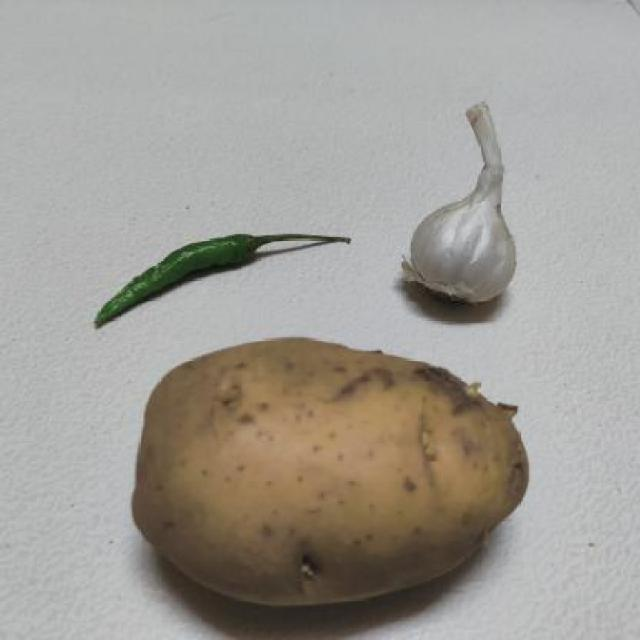Garlic: (398, 97, 530, 323)
Green Chili: (70, 214, 358, 334)
Potato: (129, 334, 549, 617)
